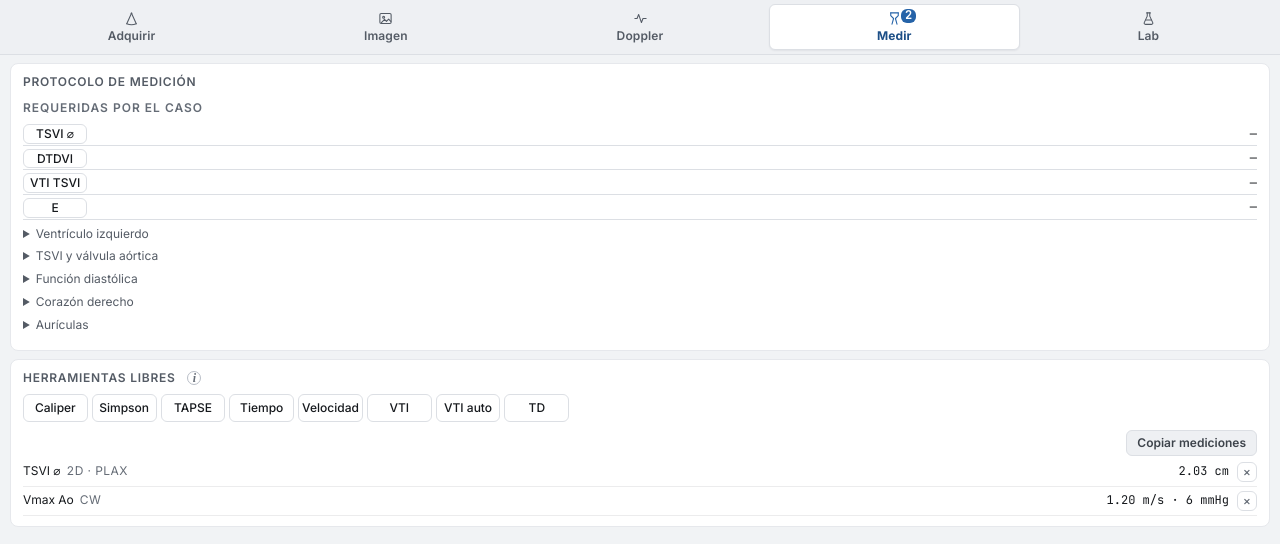
Test: the measurement list (decision 200) › shows each figure in its own column and copies the list as text
Click the button "Copiar mediciones" at (1192, 443), box [1126,430,1257,456]
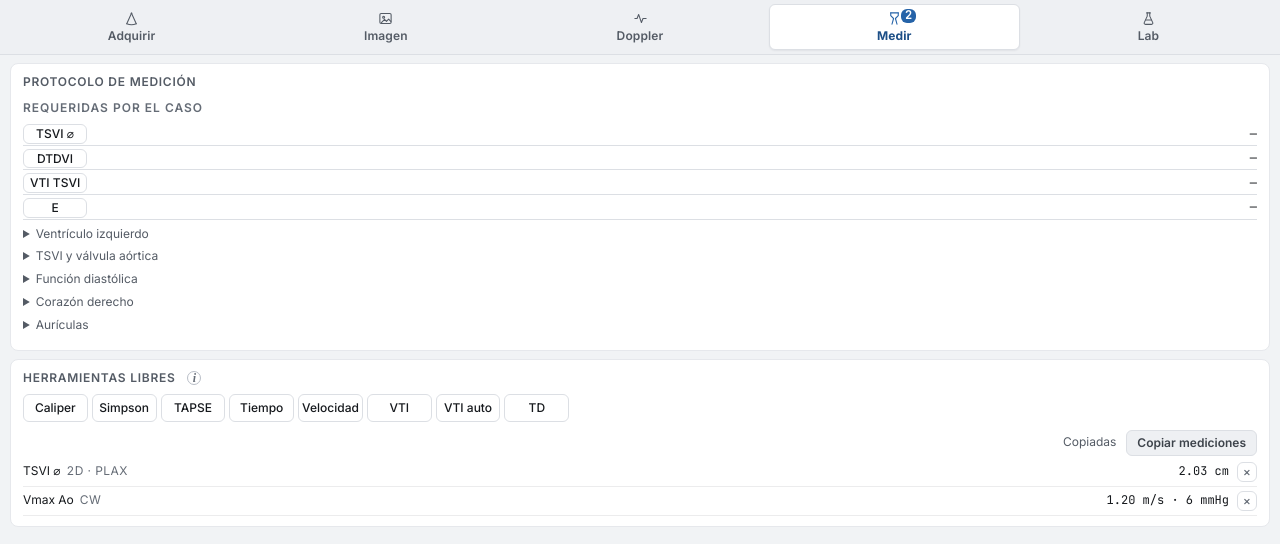
Result: the message reads "Copiadas" at [1063,434,1116,449]
